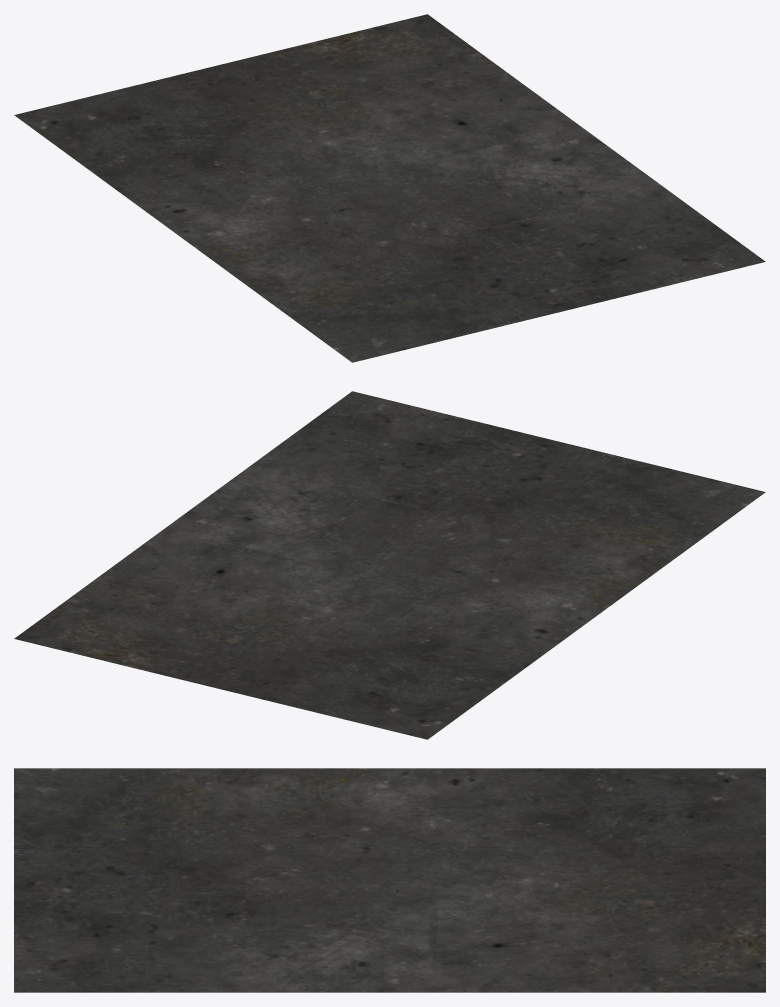
Rendered from Roof_Floor.FBX.
3 renders of one model, top to bottom at view 1: azimuth 30°, elevation 25°; view 2: azimuth 150°, elevation 25°; view 3: azimuth 270°, elevation 25°, orthographic. The views are drawn at different scales.
Parts seen in each view (by area): view 1: Roof_Floor; view 2: Roof_Floor; view 3: Roof_Floor.
Part boxes in pixels (<box>): Roof_Floor: <box>14,14,765,362</box>; Roof_Floor: <box>14,391,765,739</box>; Roof_Floor: <box>14,768,765,992</box>.
Bounding box in the file's own units: 1330 × 1.15e-13 × 1884.
